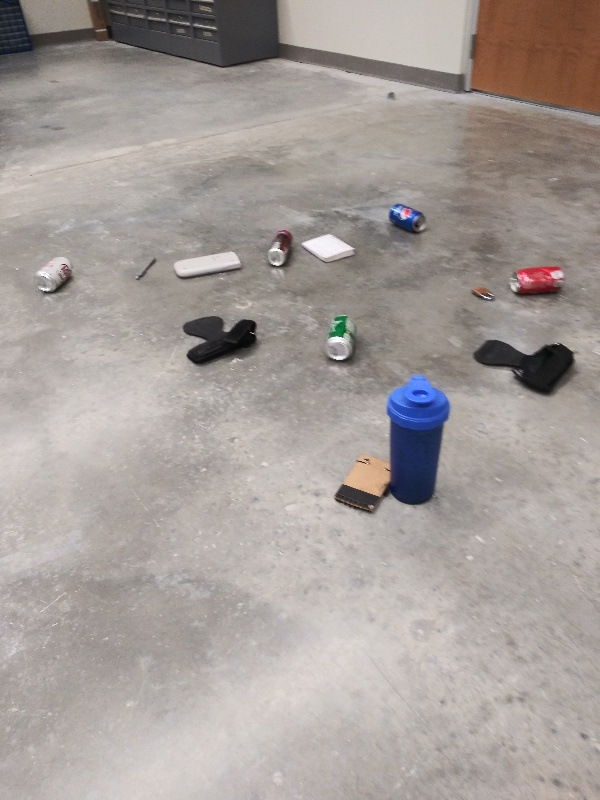can: (506, 265, 569, 296), (30, 254, 75, 297), (323, 313, 360, 363), (385, 201, 431, 233), (261, 228, 297, 268)
